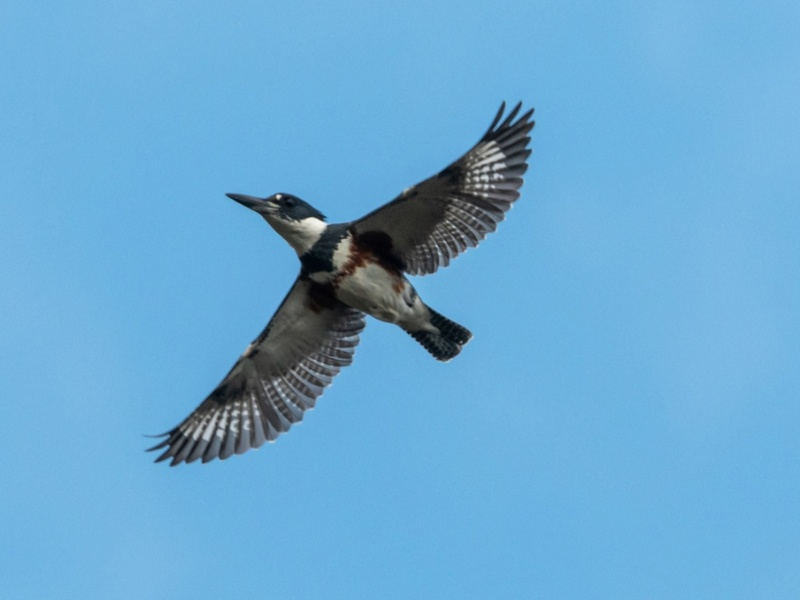kingfisher: (146, 97, 540, 473)
